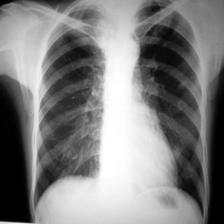tuberculosis: (25, 1, 206, 224)
